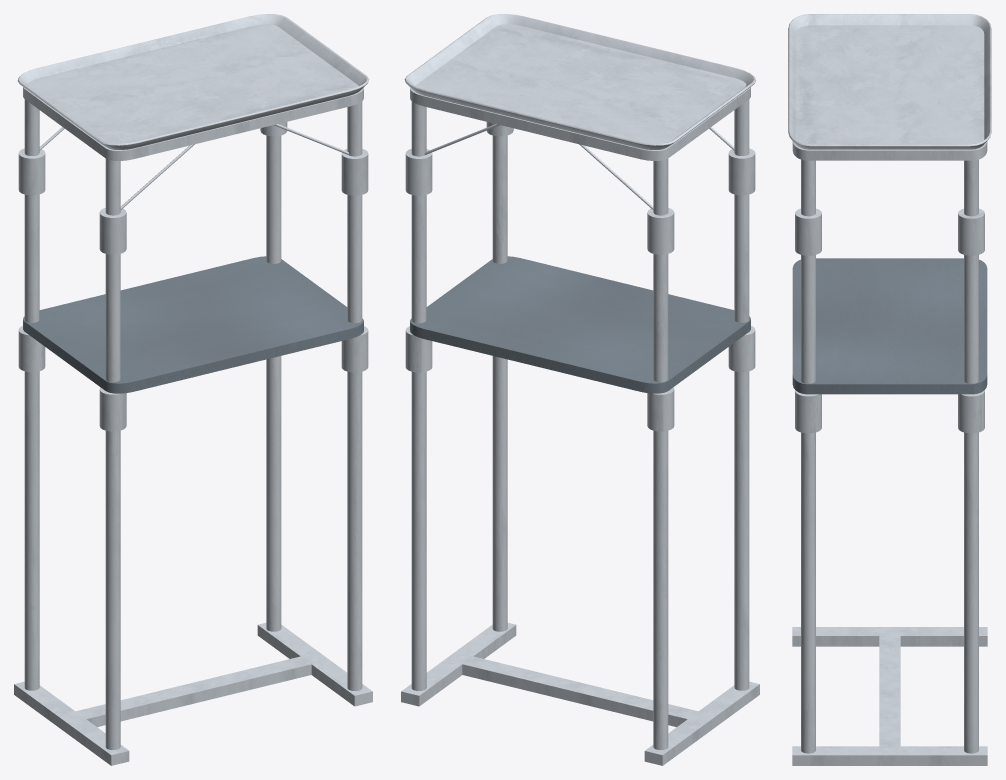
Rendered from Tray.fbx.
3 renders of one model, left to right at view 1: azimuth 30°, elevation 25°; view 2: azimuth 150°, elevation 25°; view 3: azimuth 270°, elevation 25°, orthographic.
Visible parts, largest first — view 1: Tray; view 2: Tray; view 3: Tray.
Boxes of the visible parts, <box> form: Tray: <box>14,14,372,765</box>; Tray: <box>401,14,759,765</box>; Tray: <box>788,14,991,765</box>.
Size of the model in its own units: 58.32 by 129 by 38.07.
